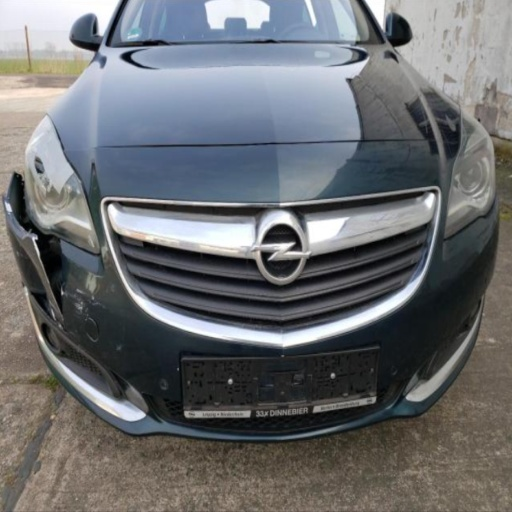scratch: (63, 286, 91, 322), (91, 297, 110, 312), (115, 342, 122, 352)
